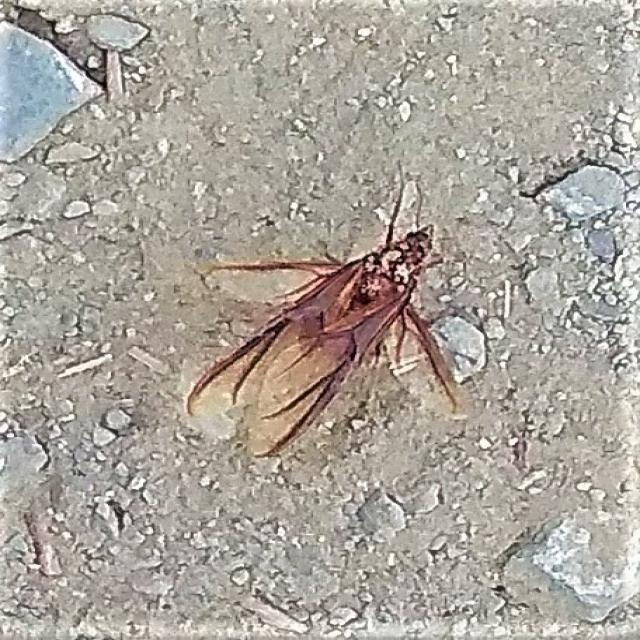Alive-Male-Alate: (178, 184, 458, 462)
